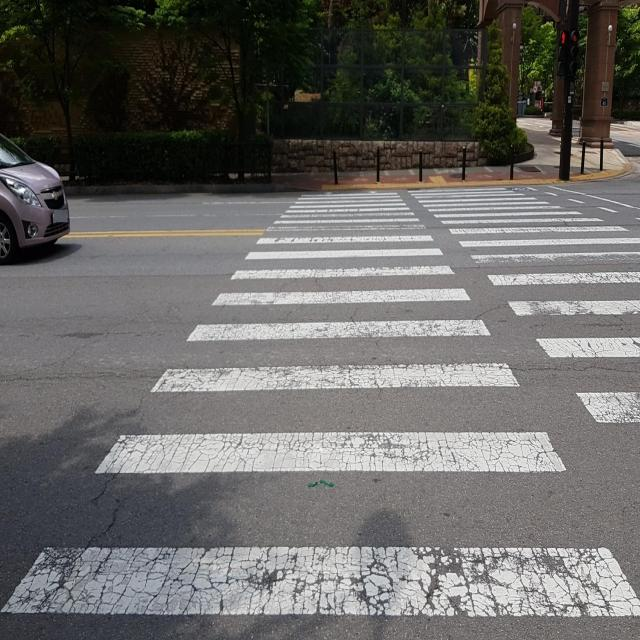빨간불: (557, 28, 569, 79)
횡단보도: (0, 186, 640, 621)
